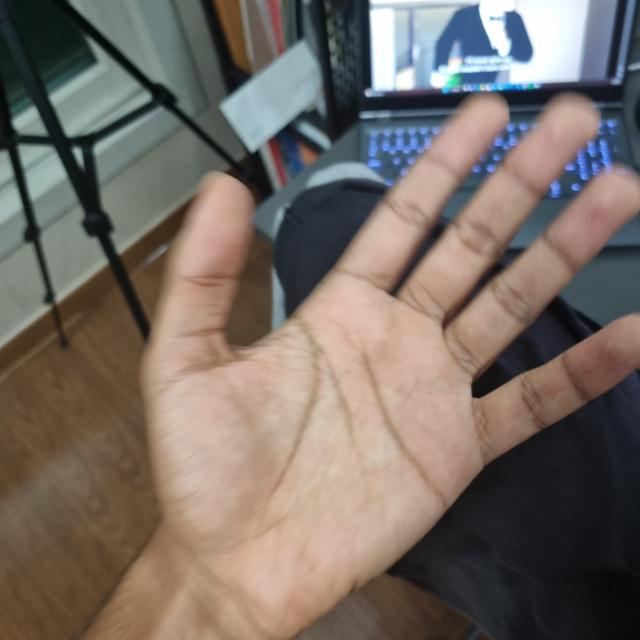Paper: (136, 94, 640, 633)
